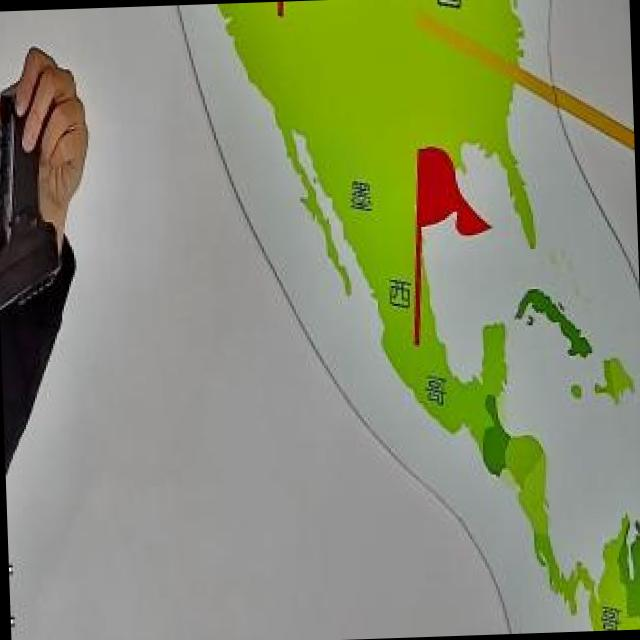Guns: (0, 88, 93, 369)
